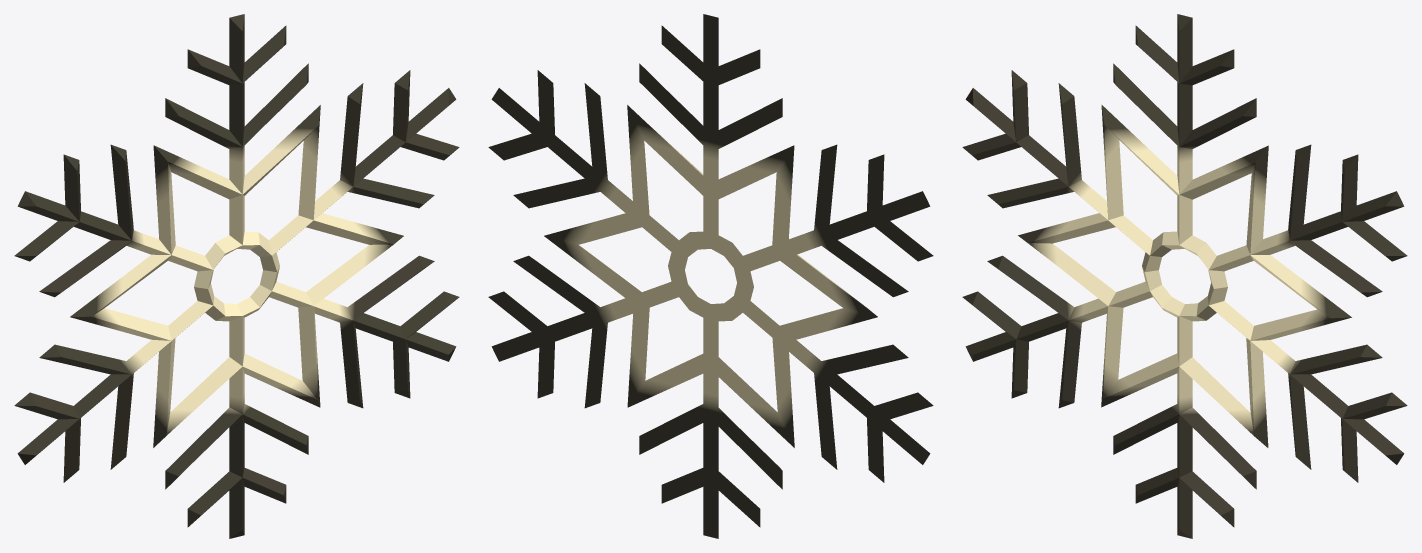
Rendered from SM_Prop_Neon_Snowflake_01.fbx.
The picture shows the model from 3 angles, left to right: view 1: azimuth 30°, elevation 25°; view 2: azimuth 150°, elevation 25°; view 3: azimuth 330°, elevation 25°; orthographic projection.
Parts seen in each view (by area): view 1: SM_Prop_Neon_Snowflake_01; view 2: SM_Prop_Neon_Snowflake_01; view 3: SM_Prop_Neon_Snowflake_01.
Boxes of the visible parts, left/top/right/bottom form: SM_Prop_Neon_Snowflake_01: left=14, top=14, right=459, bottom=538; SM_Prop_Neon_Snowflake_01: left=488, top=14, right=933, bottom=538; SM_Prop_Neon_Snowflake_01: left=962, top=14, right=1407, bottom=538.
Size of the model in its own units: 106 by 119 by 2.35.
